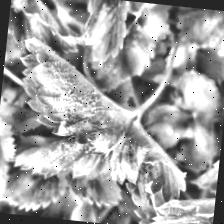Powdery Mildew Leaf: (12, 37, 146, 162), (9, 132, 128, 210), (105, 113, 193, 218)
